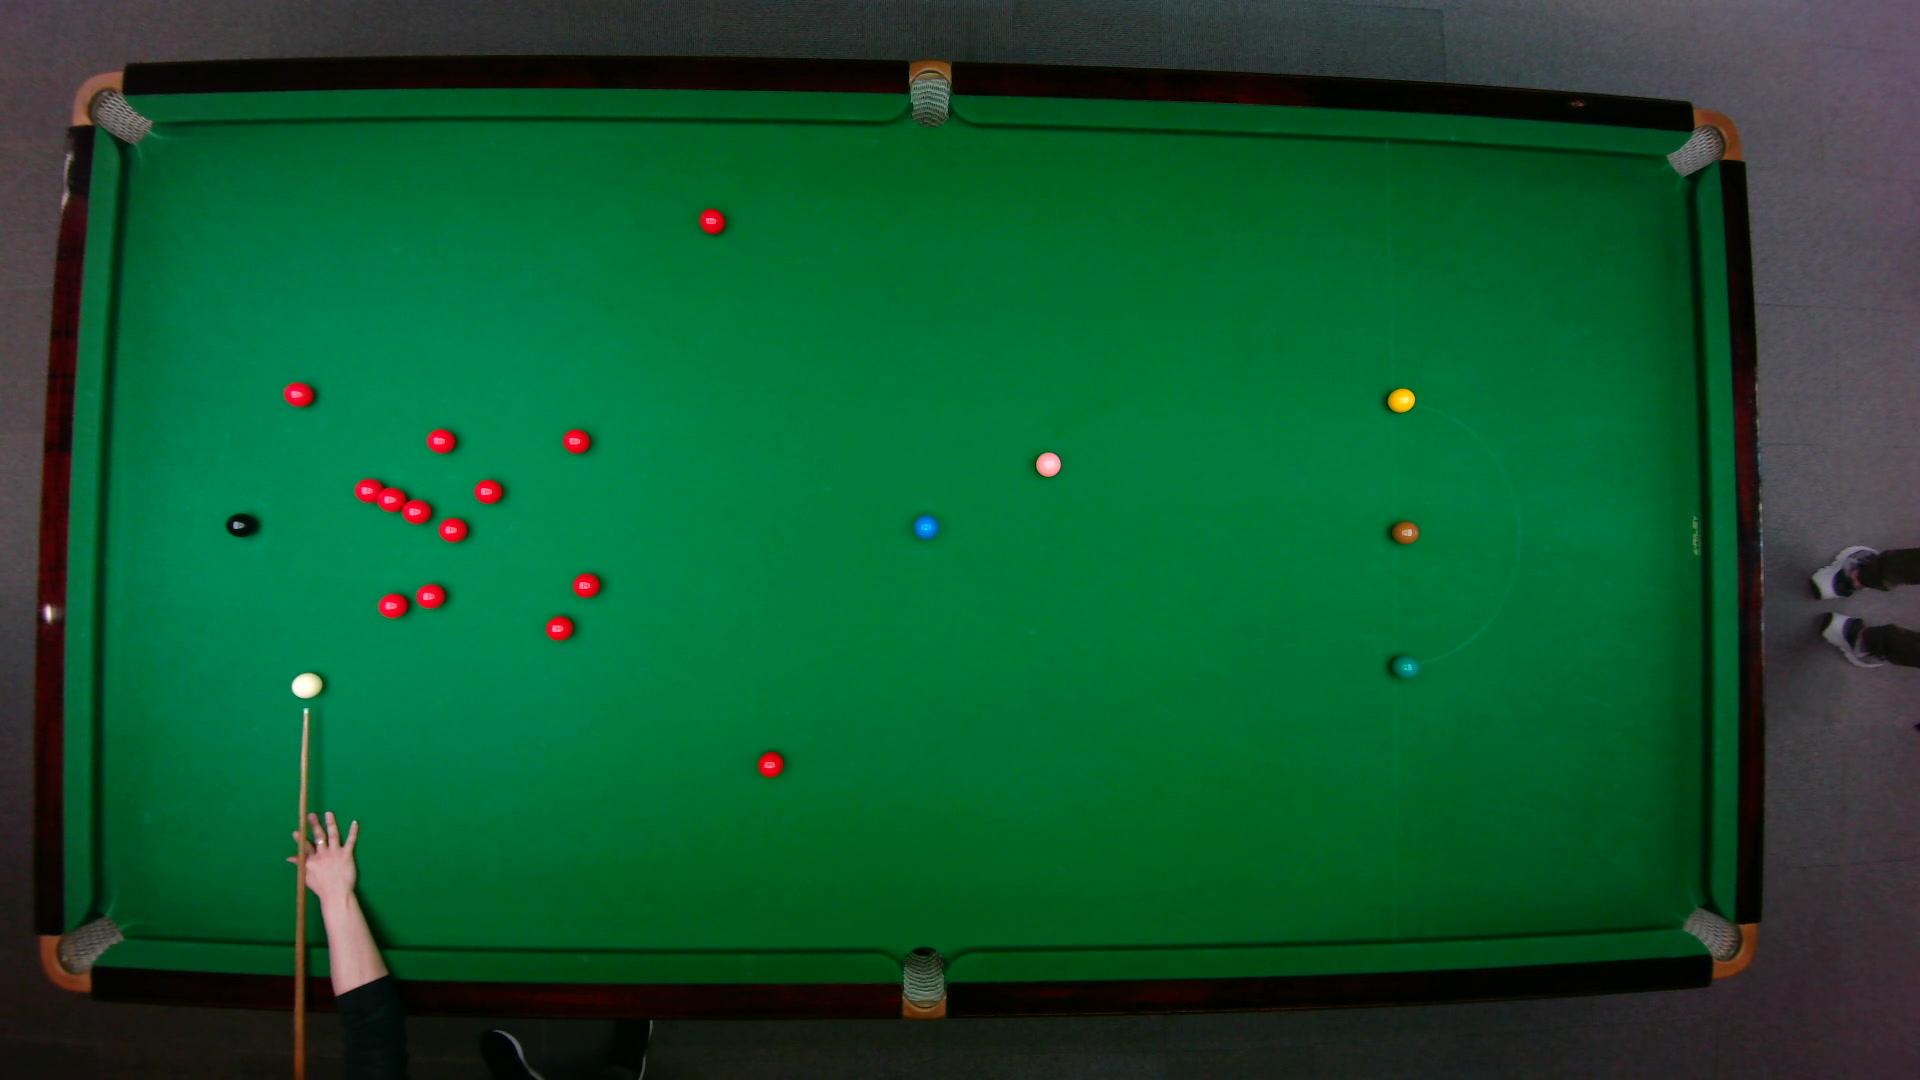bag: (37, 913, 125, 992), (69, 69, 153, 145), (1677, 905, 1756, 978), (1663, 107, 1741, 177), (901, 944, 944, 1021), (909, 57, 949, 128)
black: (223, 512, 256, 537)
blue: (913, 513, 938, 539)
brown: (1390, 520, 1419, 545)
cue: (293, 705, 313, 1080)
green: (1389, 651, 1419, 679)
pink: (1033, 448, 1063, 477)
red: (281, 378, 315, 407), (375, 591, 409, 618), (413, 582, 446, 609), (400, 496, 431, 524), (436, 516, 468, 543), (698, 206, 727, 235), (756, 749, 785, 778), (376, 484, 406, 512), (543, 615, 574, 642), (570, 571, 601, 597), (425, 427, 456, 454), (352, 476, 382, 502), (560, 427, 591, 454), (472, 477, 502, 502)
white: (287, 670, 324, 699)
yellow: (1385, 386, 1416, 413)
zone: (1389, 400, 1519, 666)
